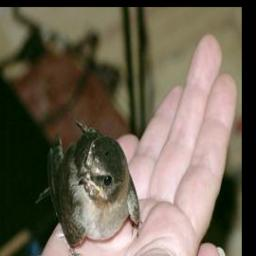Swallow: (32, 117, 142, 256)
